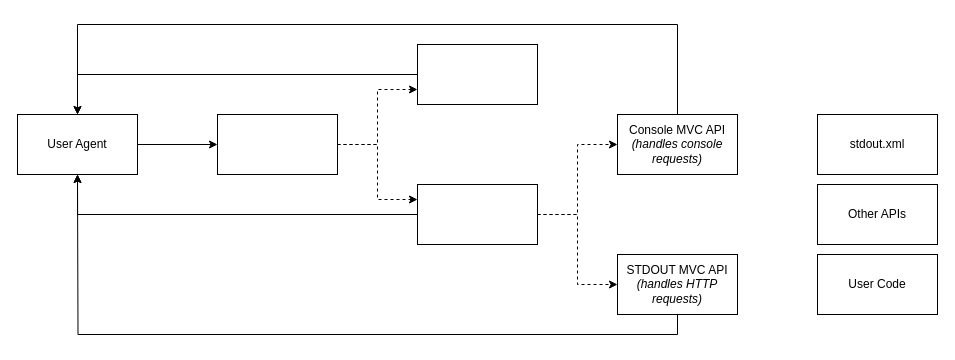
This 955x360 diagram has some shape labels left out. The shapes that lost their labels are listed below. From the top down, each one's box as (x1, y1, x2, y2) in pixels, then its label:
(416, 44, 538, 104): Static Resource (image, js, css)
(216, 114, 338, 174): Web Server (Apache2, NGINX)
(416, 184, 538, 244): Bootstrap (index.php)
